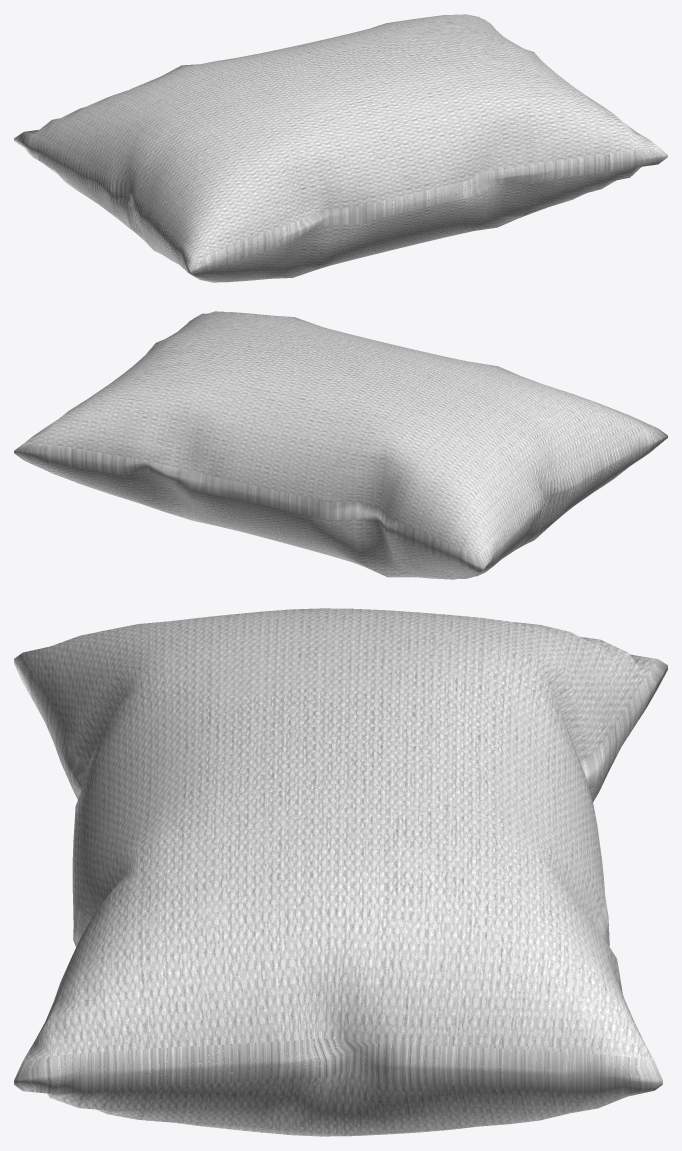
The model's file is pillowmodel.glb.
3 renders of one model, top to bottom at view 1: azimuth 30°, elevation 25°; view 2: azimuth 150°, elevation 25°; view 3: azimuth 270°, elevation 25°, orthographic. The views are drawn at different scales.
Parts seen in each view (by area): view 1: Plane; view 2: Plane; view 3: Plane.
Part boxes in pixels (bbox=[...]): Plane: bbox=[14, 14, 667, 282]; Plane: bbox=[14, 311, 667, 579]; Plane: bbox=[14, 608, 667, 1136].
Size of the model in its own units: 6.93 by 2.36 by 4.55.
Materials: 1 (1 with a texture image).
